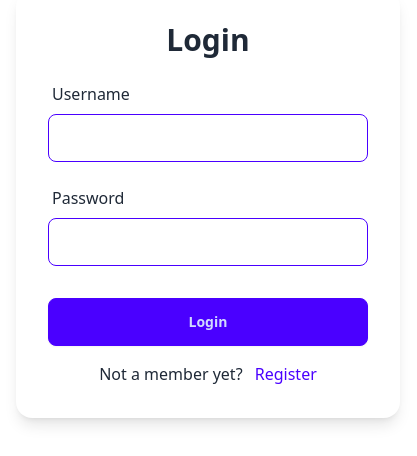
Test: login › submits form with invalid username will show error and prevent submission
In the field labelled "Username": (208, 138) [48,114,368,162], type "ni"
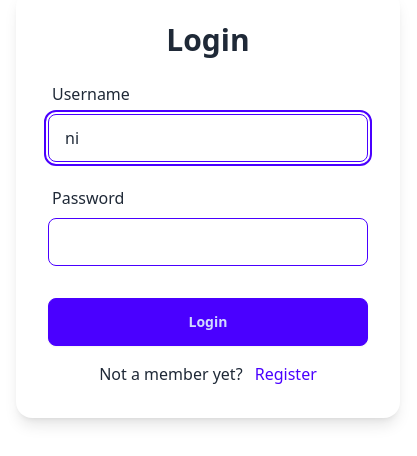
In the password field labelled "Password": (208, 242) [48,218,368,266], type "password"
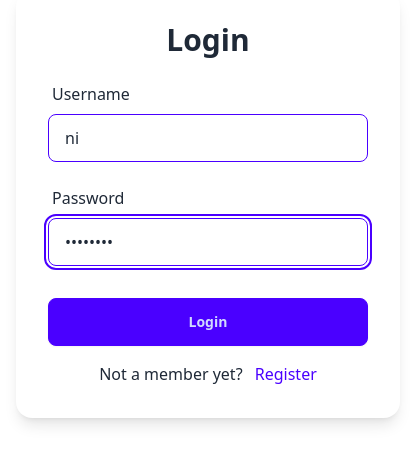
Click the button "Login": (208, 322) [48,298,368,346]
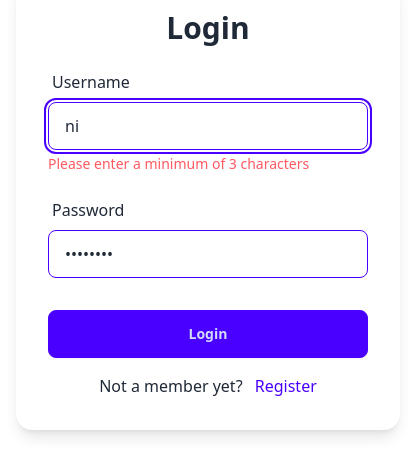
Result: the text "Please enter a minimum of 3 characters" is shown at [48,154,309,173]
